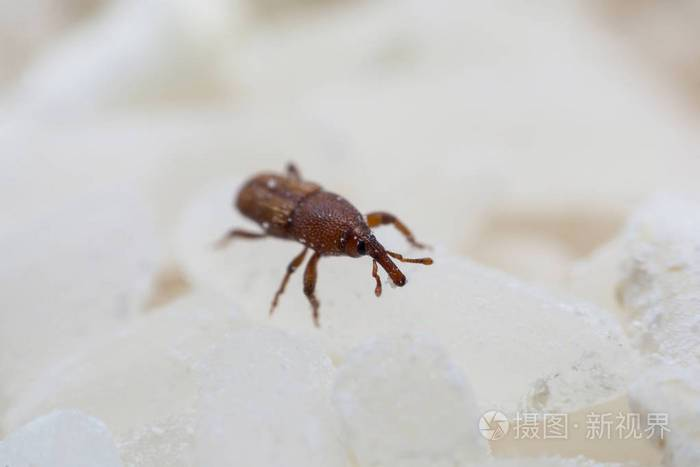Curculionidae: (214, 160, 433, 329)
